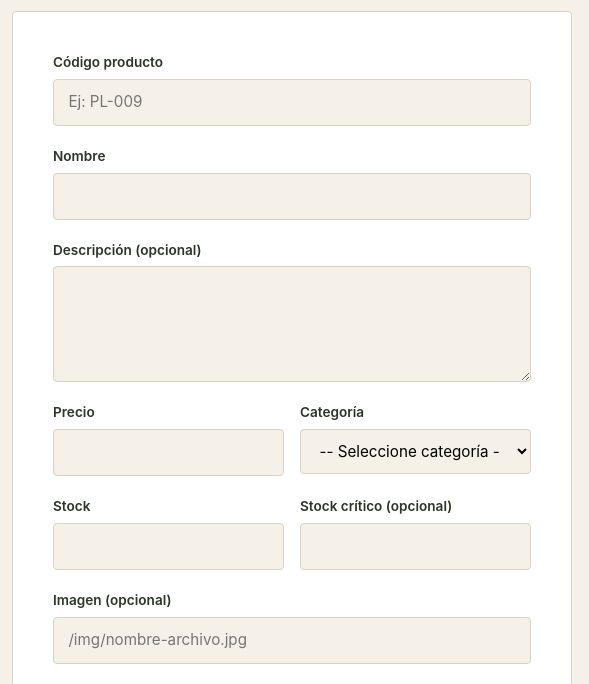
Test: AdminProductoForm › muestra el error de la API si el código ya existe y no cambia de página
Type "PL-009" into the field labelled "Código producto" at [292, 102], box x1=53 y1=79 x2=531 y2=126
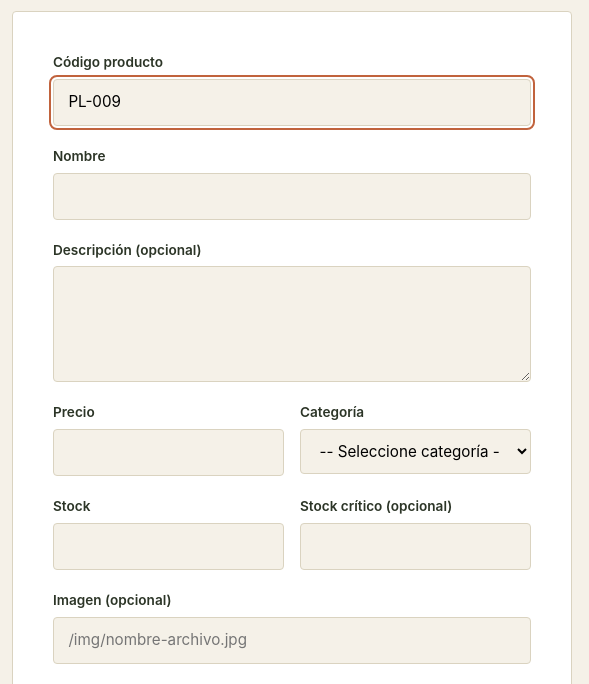
Type "Helecho" into the field labelled "Nombre" at [292, 196], box x1=53 y1=172 x2=531 y2=220
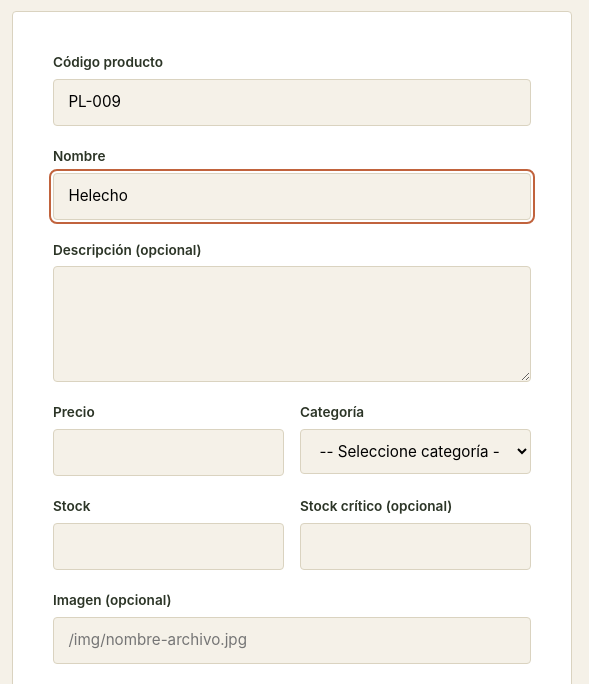
Type "7000" into the number field labelled "Precio" at [168, 452], box x1=53 y1=429 x2=284 y2=476
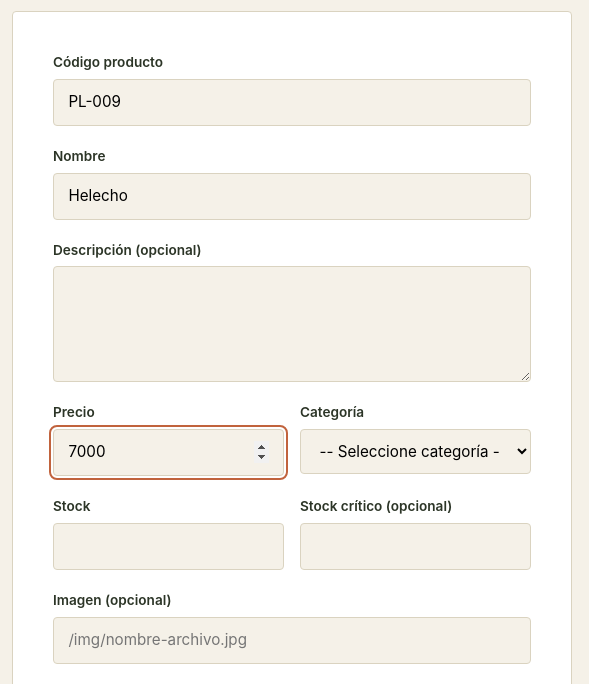
Select "Plantas de interior" in the dropdown labelled "Categoría" at [416, 451], box x1=300 y1=429 x2=531 y2=474
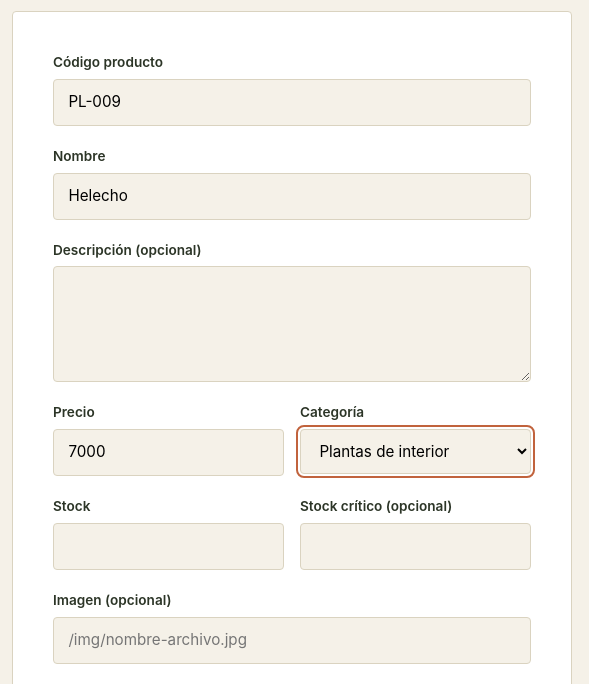
Type "5" into the number field labelled "Stock" at [168, 546], box x1=53 y1=523 x2=284 y2=570
(page scrolled)
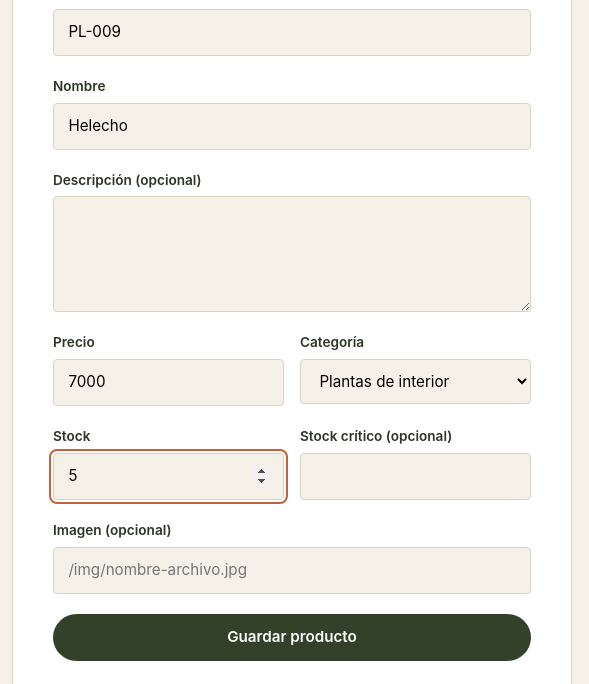
Click the button "Guardar producto" at [292, 637], box x1=53 y1=614 x2=531 y2=661
(page scrolled)
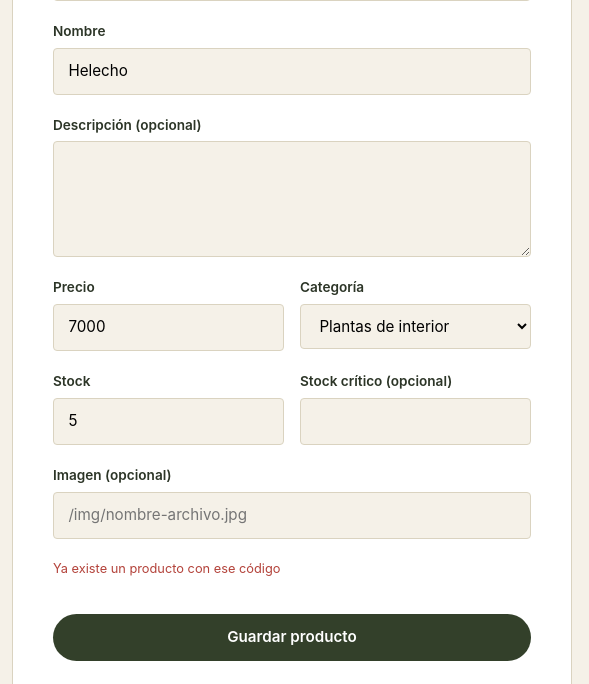
Expected: the text "Ya existe un producto con ese código" is shown, x1=53 y1=561 x2=280 y2=576
